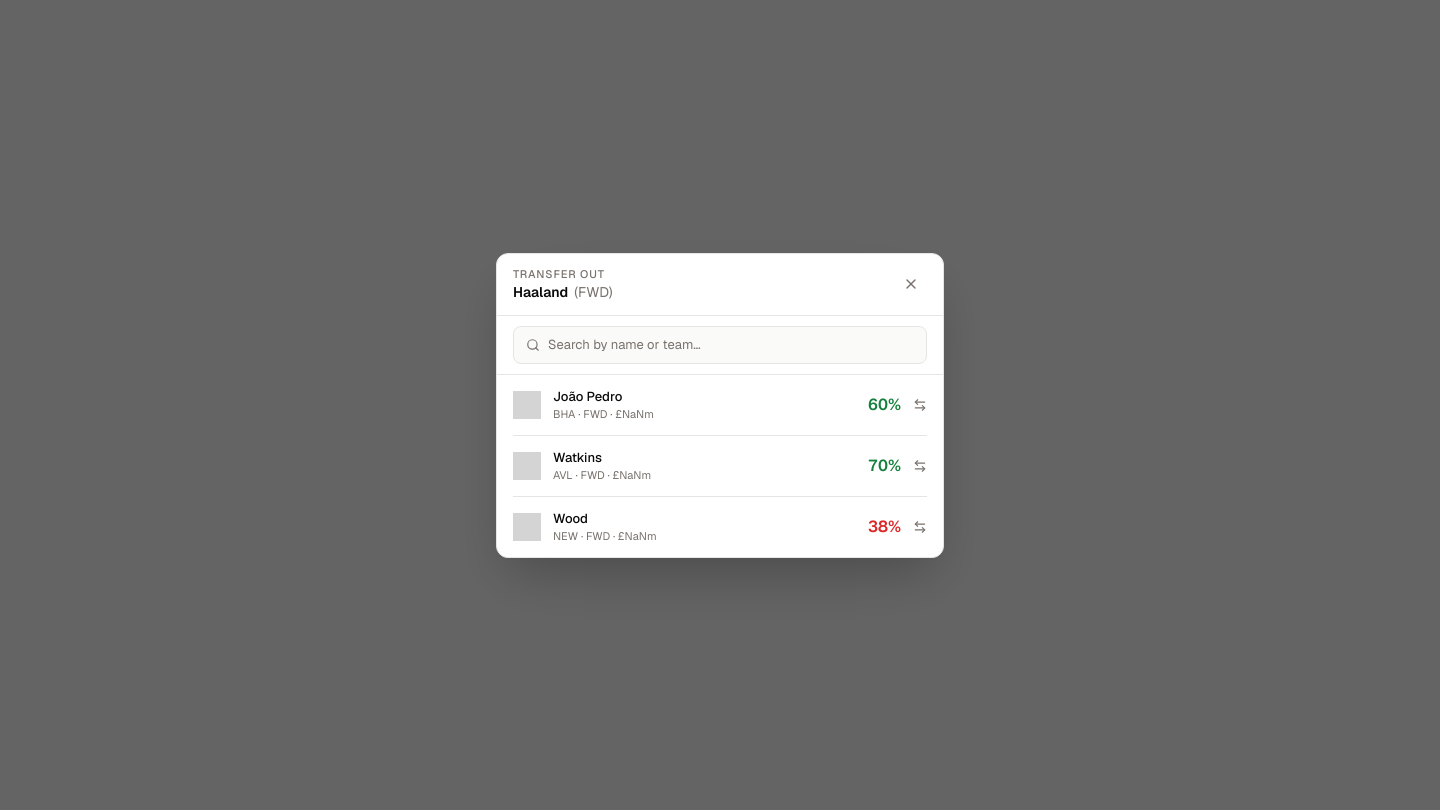
Scenario: TransferModal › filters candidates by search query (name)
Expected: the text "Watkins" is shown, left=553, top=448, right=602, bottom=466
In the search field: (731, 345) left=548, top=335, right=914, bottom=354, type "wat"
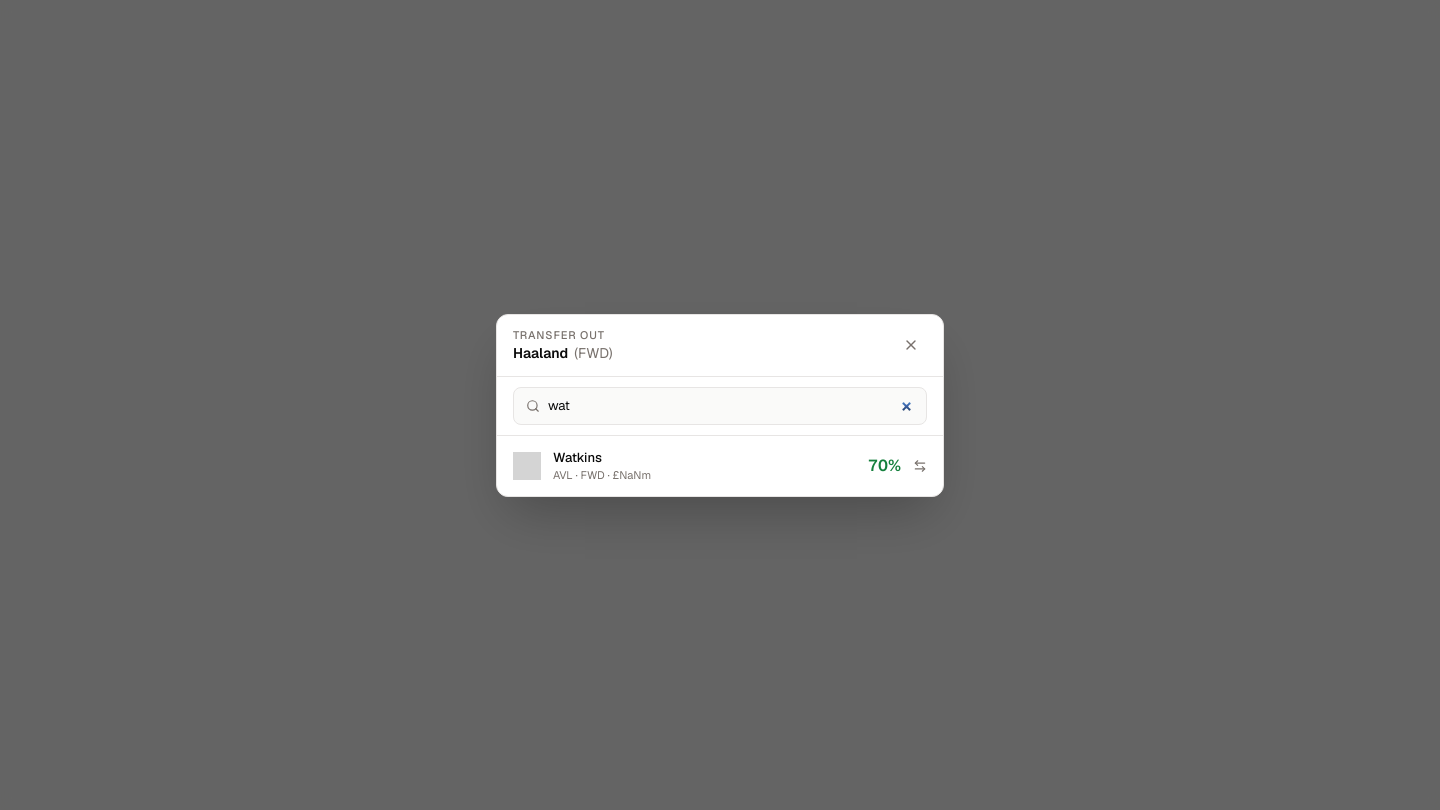
Expected: the text "Watkins" is shown, left=553, top=448, right=602, bottom=466
Expected: the button "João Pedro" is gone
